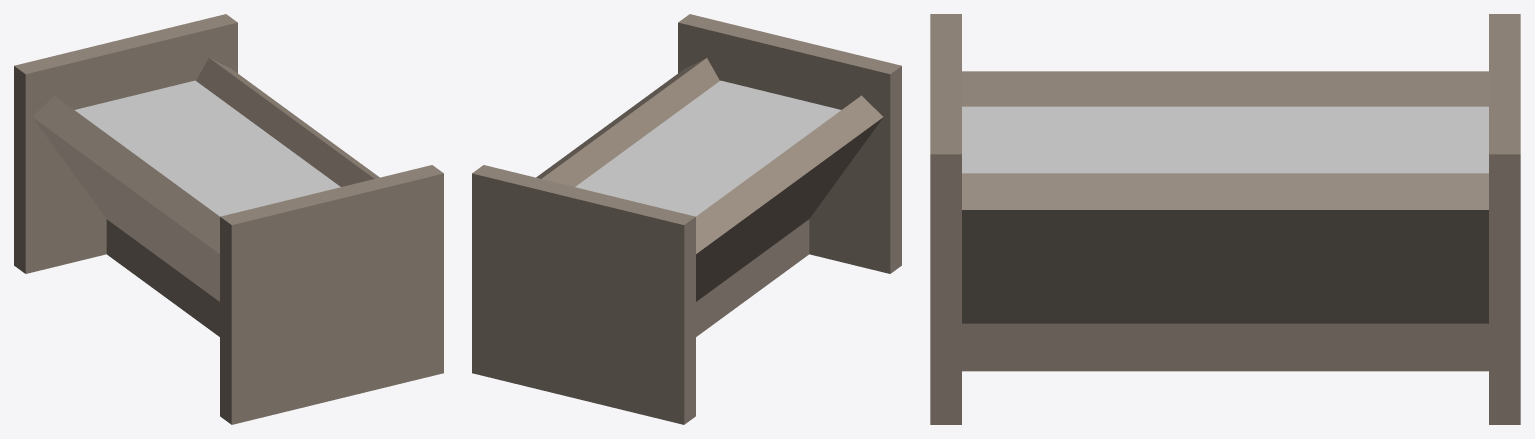
Rendered from SM_Trough.fbx.
3 views of the same model, side by side, from view 1: azimuth 30°, elevation 25°; view 2: azimuth 150°, elevation 25°; view 3: azimuth 270°, elevation 25° (orthographic). The views are drawn at different scales.
Visible parts, largest first — view 1: Trough, Feed; view 2: Trough, Feed; view 3: Trough, Feed.
Part boxes in pixels (<box>): Trough: <box>14,14,443,424</box>; Feed: <box>75,80,340,216</box>; Trough: <box>472,14,901,424</box>; Feed: <box>575,80,840,216</box>; Trough: <box>930,14,1520,424</box>; Feed: <box>962,106,1488,173</box>.
Size of the model in its own units: 31.5 by 28.34 by 56.
